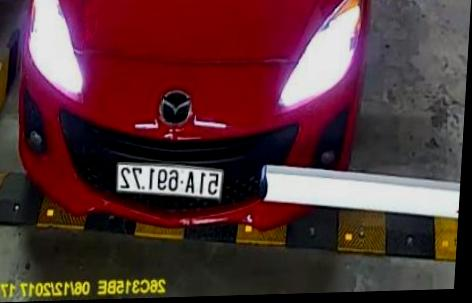License_Plate: (110, 153, 232, 211)
